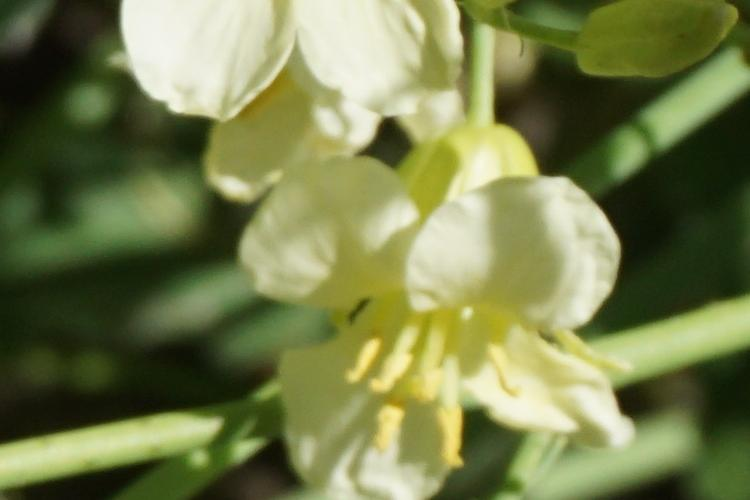bud: (581, 15, 730, 82)
white: (227, 164, 648, 483), (118, 8, 466, 138)
